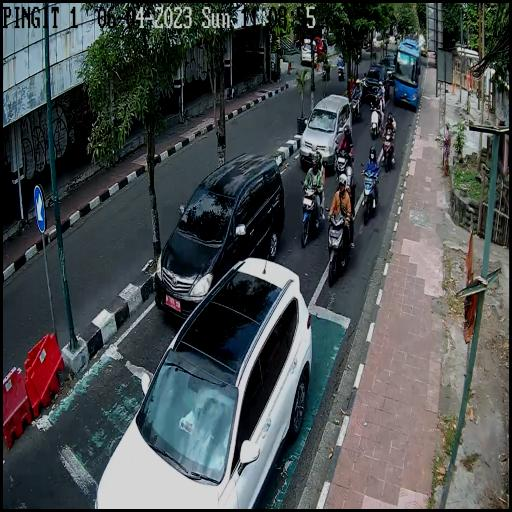mobil: (92, 252, 312, 510), (154, 152, 285, 313), (300, 92, 352, 170), (392, 40, 422, 112), (363, 63, 388, 107)
motor: (324, 204, 355, 288), (299, 178, 323, 246), (360, 162, 380, 226), (334, 140, 353, 192), (380, 123, 398, 174), (369, 97, 381, 140)
